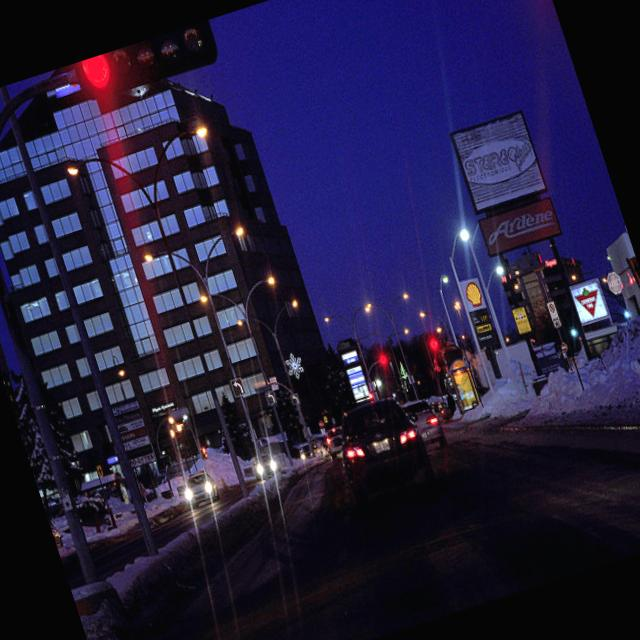Vehicle: (328, 389, 436, 504), (400, 394, 449, 456), (180, 468, 222, 510), (250, 449, 283, 482), (324, 426, 349, 455), (431, 398, 455, 425), (46, 510, 63, 548)
